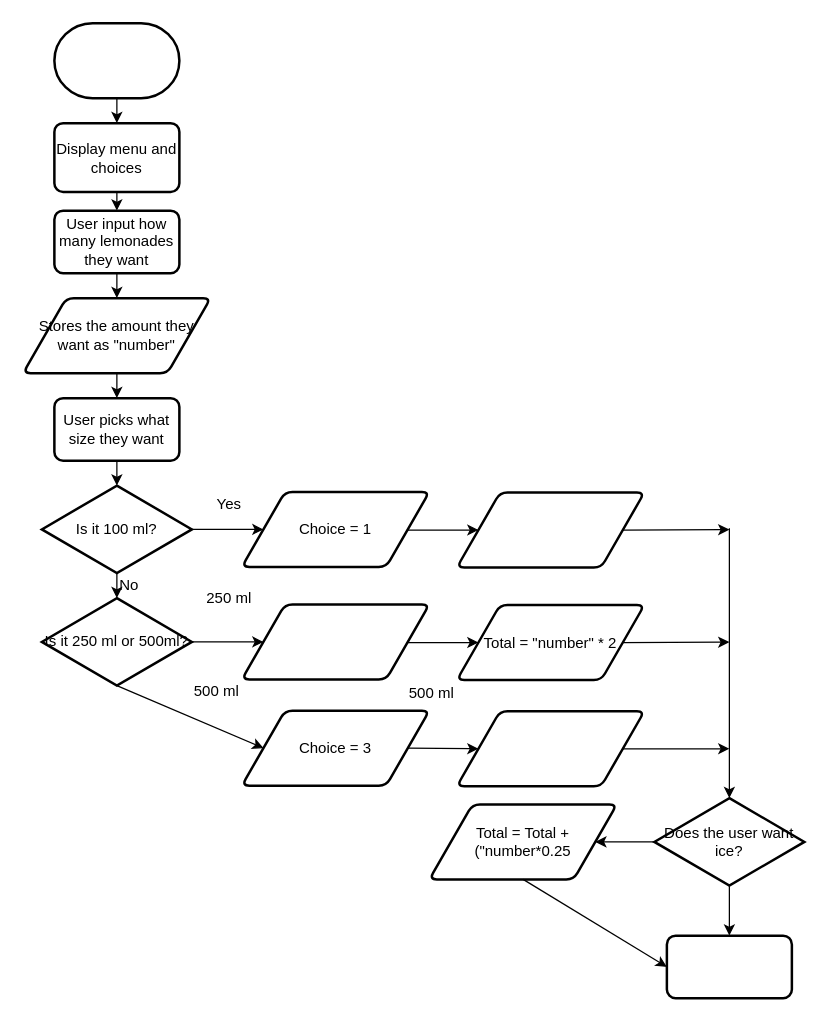
Some shapes in this 826 by 1020 pixel diagram are drawn without their labels. Here are the shapes that lost their labels. From the top down, the centre of each, then its label:
(116,60): Program Start
(550,529): Total = "number" * 1
(335,641): Choice = 2
(550,748): Total = "number" * 3
(728,966): Display total price
